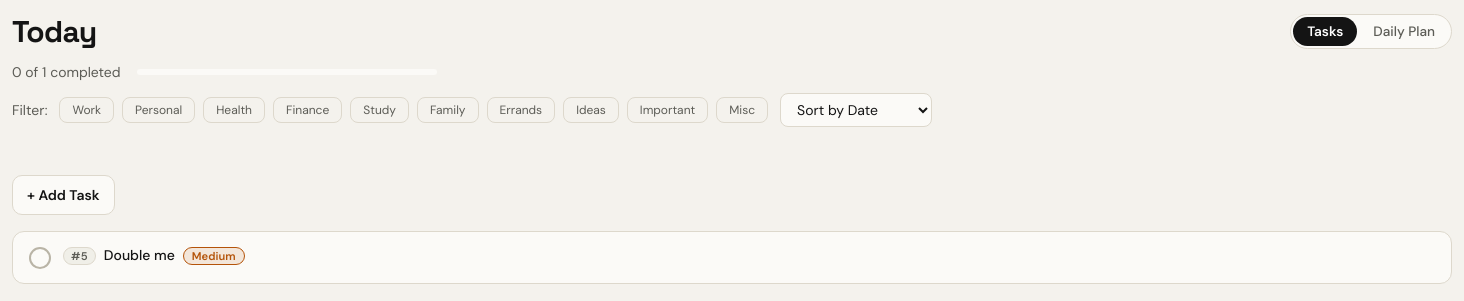
DashboardPage day view › double-click on a card completes it (persisted to guest storage)
This screenshot has width=1464, height=301.
Double-click the element showing "#5 Double me Medium": (732, 258) top-left (12, 231), bottom-right (1452, 284)
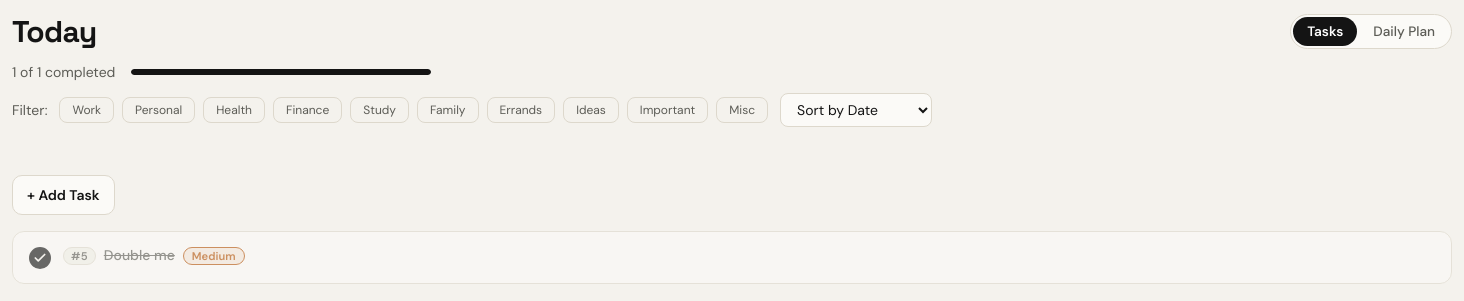
Expected: the text "1 of 1 completed" is shown, top-left (12, 63), bottom-right (115, 81)
